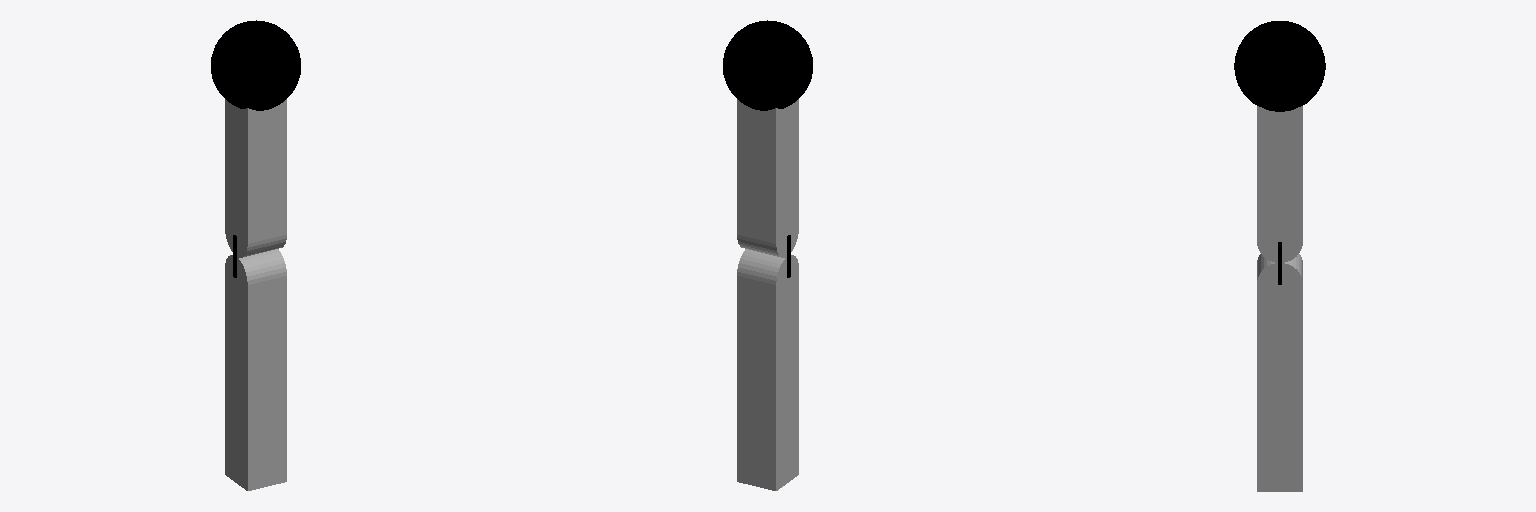
robot.urdf — rolling_joint_model:
<?xml version="1.0" ?>
<!-- =================================================================================== -->
<!-- |    This document was autogenerated by xacro from rolling_joint_model.urdf.xacro | -->
<!-- |    EDITING THIS FILE BY HAND IS NOT RECOMMENDED                                 | -->
<!-- =================================================================================== -->
<robot name="rolling_joint_model" xmlns:xacro="http://www.ros.org/wiki/xacro">
  <!-- Defaults are new in Indigo, so obviously they don't work in Kinetic -->
  <!-- <xacro:arg name="r0" default="0.2"/> -->
  <!-- <xacro:arg name="r1" default="0.1"/> -->
  <material name="grey">
    <color rgba="0.7 0.7 0.7 1"/>
  </material>
  <material name="black">
    <color rgba="0.0 0.0 0.0 1"/>
   </material>

   <!--dart needs world link in order to represent the base-->
  <link name="world"/>
  <joint name="world_joint" type="fixed">
        <parent link="world"/>
        <child link="link0"/>
        <origin xyz="0 0 0" rpy="0 0 0"/>
  </joint>

  <link name="link0">
    <inertial>
      <origin rpy="0 0 0" xyz="0 0 0.5"/>
      <mass value="10"/>
      <inertia ixx="0.1" ixy="0" ixz="0" iyy="0.1" iyz="0" izz="0.01"/>
    </inertial>
    <visual>
      <origin rpy="0 0 0" xyz="0 0 0.5"/>
      <geometry>
        <box size="0.2 0.2 1.0"/>
      </geometry>
      <material name="grey"/>
    </visual>
    <visual>
      <origin rpy="0 1.57079632679 0" xyz="0 0 1"/>
      <geometry>
        <cylinder length="0.2" radius="0.1"/>
      </geometry>
      <material name="grey"/>
    </visual>
  </link>
  <!--===========================Link 1===========================-->
  <joint name="joint_name__roll__j0" type="revolute">
    <origin rpy="0 0 0" xyz="0.000 0.000 1.000"/>
    <parent link="link0"/>
    <child link="link1"/>
    <axis xyz="1 0 0"/>
    <limit effort="100000" lower="-1.57079632679" upper="1.57079632679" velocity="100000"/>
  </joint>
  <link name="link1">
    <inertial>
      <origin rpy="0  0  0" xyz="0  0  0.1"/>
      <mass value="1"/>
      <inertia ixx="0.01" ixy="0" ixz="0" iyy="0.01" iyz="0" izz="0.001"/>
    </inertial>
    <visual>
      <origin rpy="0  0  0" xyz="0  0  0.1"/>
      <geometry>
        <box size="0.22  0.02  0.2"/>
      </geometry>
      <material name="black"/>
    </visual>
  </link>
  <!--===========================Link 2===========================-->
  <joint name="joint_name__roll__j1" type="revolute">
    <origin rpy="0 0 0" xyz="0  0  0.2"/>
    <parent link="link1"/>
    <child link="link2"/>
    <axis xyz="1 0 0"/>
    <limit effort="100000" lower="-1.57079632679" upper="1.57079632679" velocity="100000"/>
    <!-- <mimic joint="joint__roll__j0" multiplier="1.0"/> -->
  </joint>
  <link name="link2">
    <inertial>
      <origin rpy="0 0 0" xyz="0.000 0.000 0.250"/>
      <mass value="0.5"/>
      <inertia ixx="0.01" ixy="0" ixz="0" iyy="0.01" iyz="0" izz="0.001"/>
    </inertial>
    <visual>
      <origin rpy="0 1.57079632679 0" xyz="0 0 0"/>
      <geometry>
        <cylinder length="0.2" radius="0.1"/>
      </geometry>
      <material name="grey"/>
    </visual>
    <visual>
      <origin rpy="0  0  0" xyz="0.0  0.0  0.4"/>
      <geometry>
        <box size="0.2  0.2  0.8"/>
      </geometry>
      <material name="grey"/>
    </visual>
  </link>
  <!--===========================END EFFECTOR===========================-->
  <joint name="end_effector" type="fixed">
    <origin rpy="0  0  0" xyz="0.0  0.0  0.8"/>
    <parent link="link2"/>
    <child link="end_effector"/>
  </joint>
  <link name="end_effector">
    <inertial>
      <origin rpy="0 0 0" xyz="0.000 0.000 0.000"/>
      <mass value="1"/>
      <inertia ixx="0.001" ixy="0" ixz="0" iyy="0.01" iyz="0" izz="0.01"/>
    </inertial>
    <visual>
      <origin rpy="0.000 0.000 0.000" xyz="0.000 0.000 0.000"/>
      <geometry>
        <sphere radius="0.200"/>
      </geometry>
      <material name="black"/>
    </visual>
  </link>
</robot>

--- Facts derived from the render (not from the file) ---
Views: 3 orthographic renders of the robot side by side, from view 1: azimuth 30°, elevation 25°; view 2: azimuth 150°, elevation 25°; view 3: azimuth 270°, elevation 25°.
Model rolling_joint_model with 5 links and 4 joints (2 revolute, 2 fixed), rooted at world, posed every joint at zero.
Links seen in each view (by area): view 1: link0, link2, end_effector; view 2: link0, link2, end_effector; view 3: link0, link2, end_effector.
Boxes of the visible links, box(x1,y1,x2,y2) form: link0: box(225, 249, 286, 490); link2: box(225, 99, 286, 257); end_effector: box(211, 20, 300, 110); link0: box(737, 249, 798, 490); link2: box(737, 99, 798, 257); end_effector: box(723, 20, 812, 110); link0: box(1257, 254, 1302, 491); link2: box(1257, 106, 1302, 262); end_effector: box(1234, 21, 1325, 111).
Size in the robot's own frame: 0.4 by 0.4 by 2.2 metres.
Geometry: primitives only (box / cylinder / sphere), no mesh files.